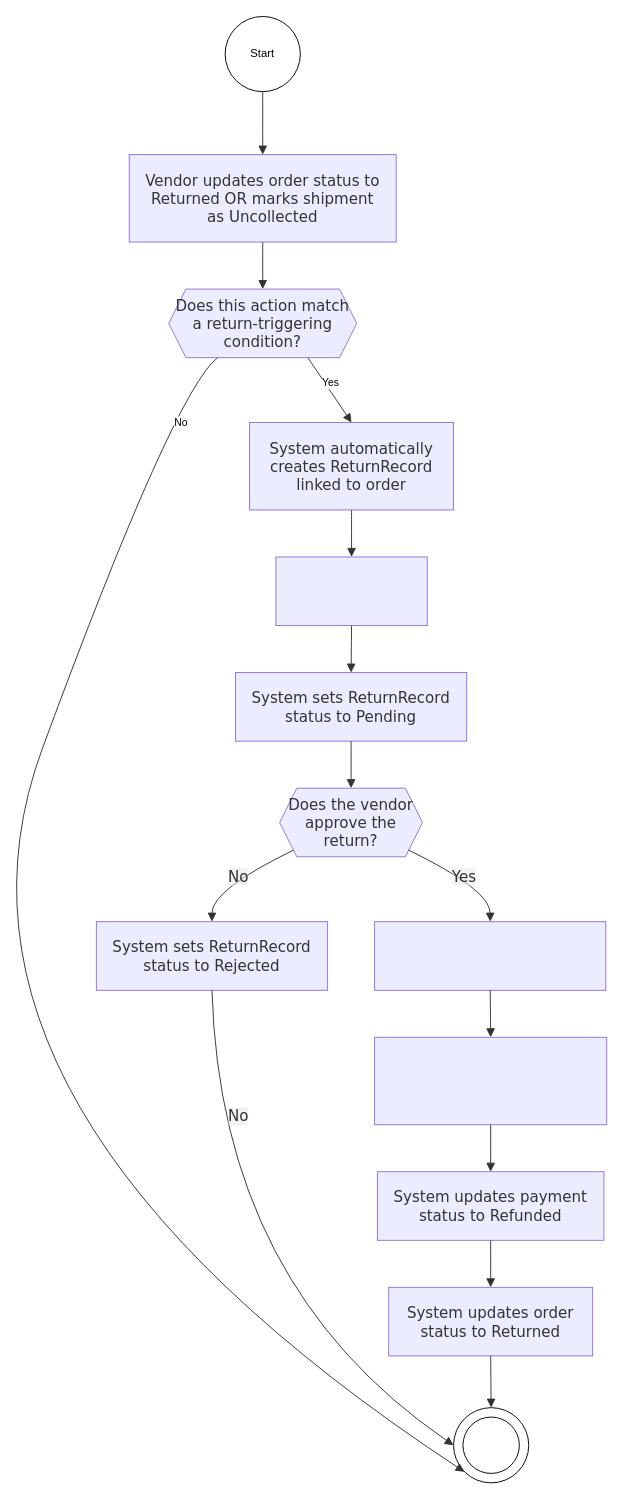
The diagram is 623 pixels wide and 1499 high, and some of its shapes have lost their labels. The shapes that lost their labels are listed below. From the top down, each one's centre as x and y in pixels, then its label:
point (351, 591): Vendor enters return reason
point (490, 955): System sets ReturnRecord status to Approved
point (490, 1080): System restores allocated platform stock quantity for returned product(s)
point (490, 1444): End
